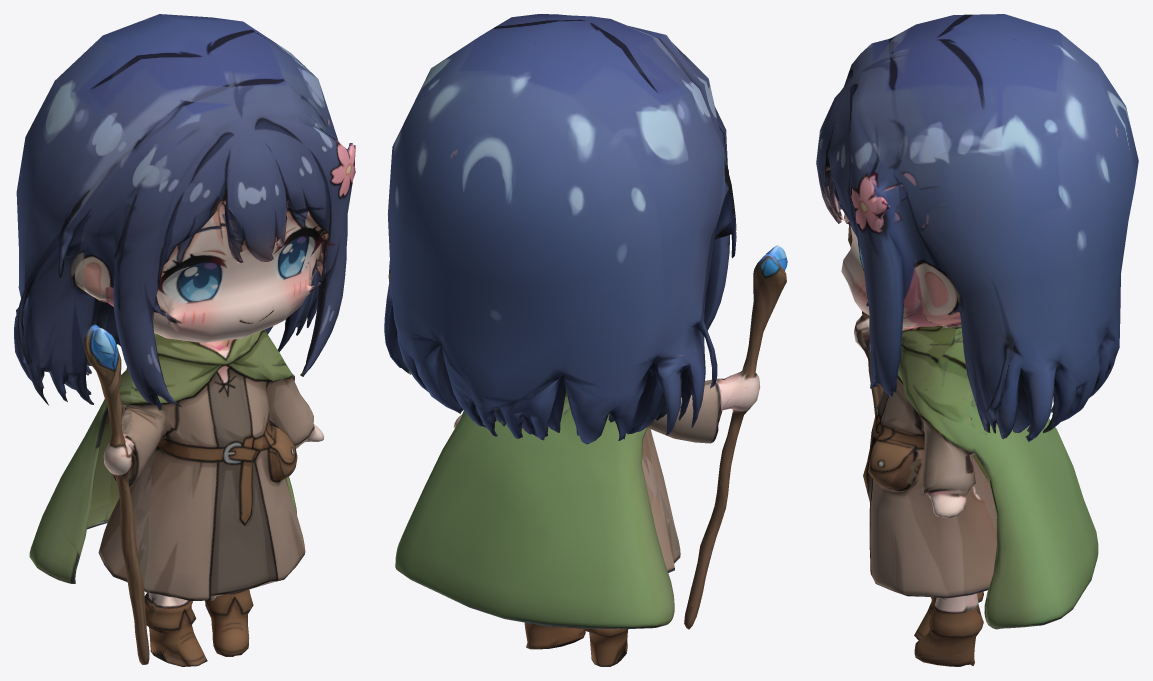
The model's file is mage.glb.
The picture shows the model from 3 angles, left to right: view 1: azimuth 30°, elevation 25°; view 2: azimuth 150°, elevation 25°; view 3: azimuth 270°, elevation 25°; orthographic projection. The views are drawn at different scales.
Bounding box in the file's own units: 1.03 × 1.91 × 0.9077.
Materials: 1 (1 with a texture image).
